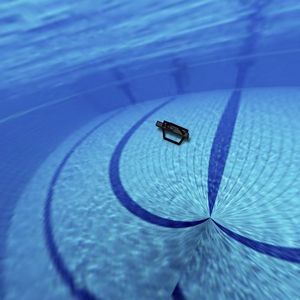submarine: (142, 106, 200, 162)
